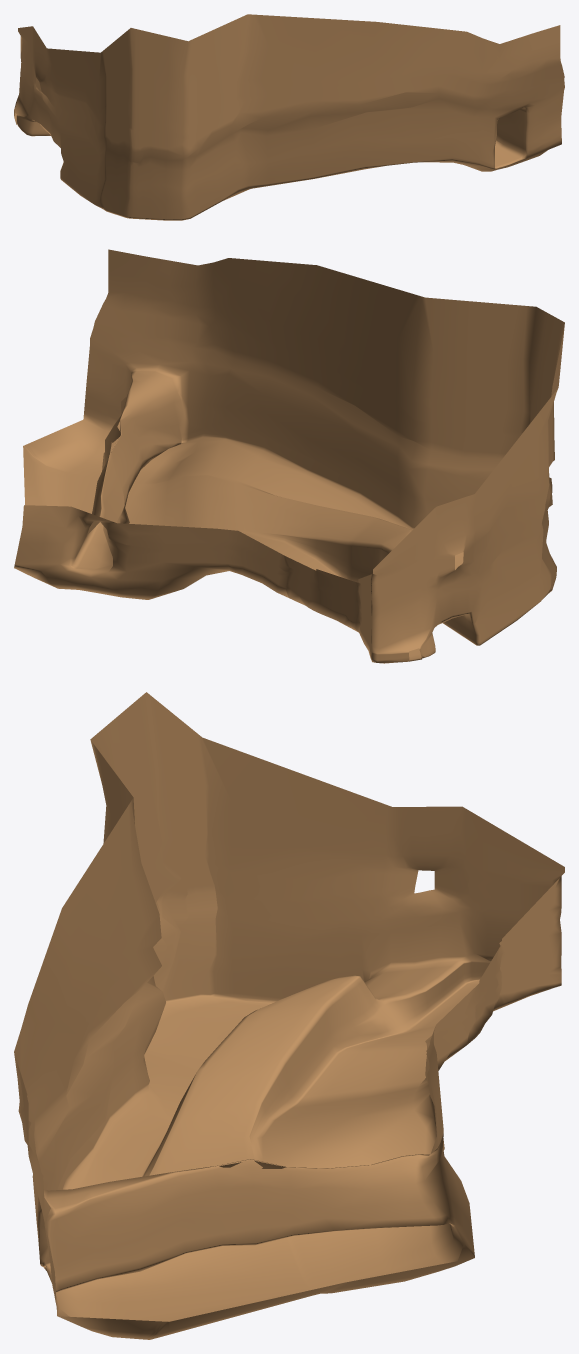
The model's file is terrain_W4A1.fbx.
3 renders of one model, top to bottom at view 1: azimuth 30°, elevation 25°; view 2: azimuth 150°, elevation 25°; view 3: azimuth 270°, elevation 25°, orthographic. The views are drawn at different scales.
Parts seen in each view (by area): view 1: W4A1_mesh; view 2: W4A1_mesh; view 3: W4A1_mesh.
Part boxes in pixels (box(x1,y1,x2,y2)): W4A1_mesh: box(14, 14, 564, 220); W4A1_mesh: box(14, 249, 564, 663); W4A1_mesh: box(14, 692, 564, 1339).
Bounding box in the file's own units: 27757 × 13271 × 19413.
